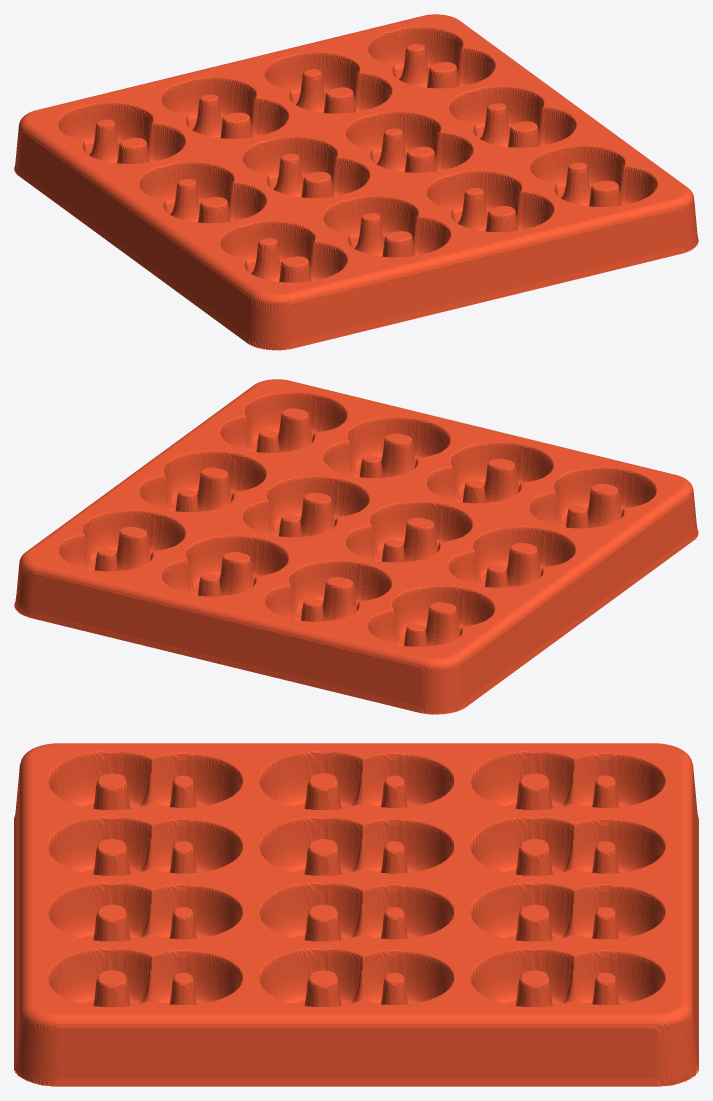
Rendered from mold.glb.
3 renders of one model, top to bottom at view 1: azimuth 30°, elevation 25°; view 2: azimuth 150°, elevation 25°; view 3: azimuth 270°, elevation 25°, orthographic. The views are drawn at different scales.
Parts seen in each view (by area): view 1: geometry_0; view 2: geometry_0; view 3: geometry_0.
Part boxes in pixels (x1,y1,x2,y2): geometry_0: [14, 14, 698, 350]; geometry_0: [14, 379, 698, 714]; geometry_0: [14, 743, 698, 1086].
Size of the model in its own units: 0.135 by 0.0145 by 0.1374.
